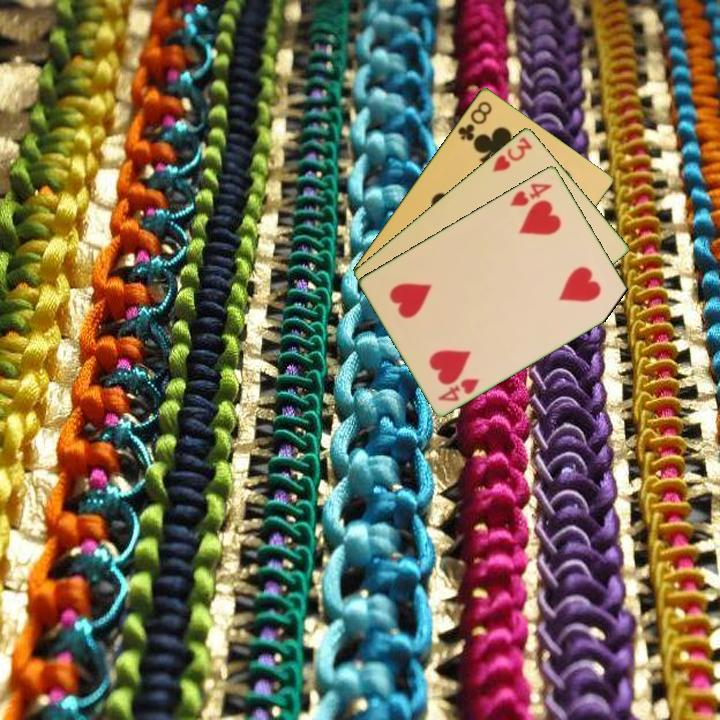3h: (489, 133, 535, 175)
4h: (506, 179, 555, 209), (434, 374, 482, 404)
8c: (454, 97, 495, 144)
